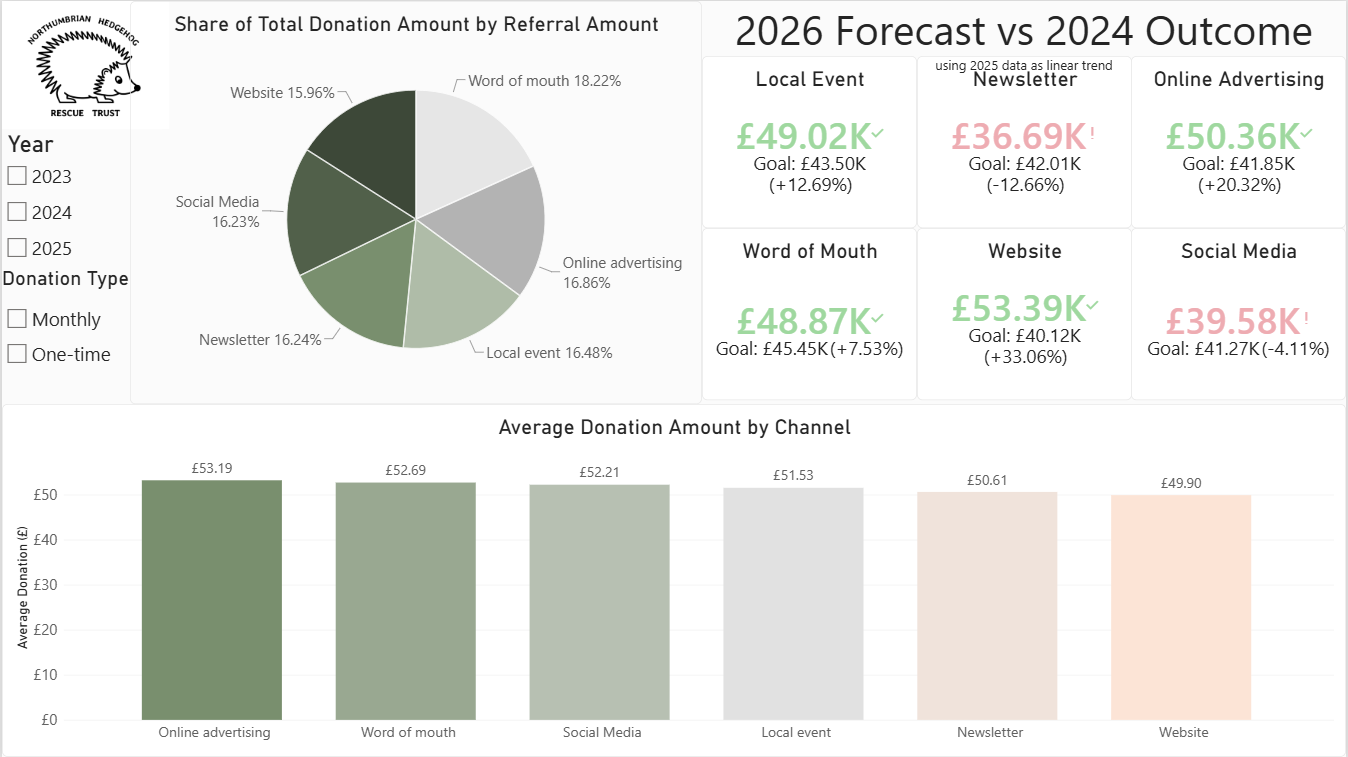

The page's visual inventory and layout, read from the dashboard file:
{"tool":"powerbi","page":{"name":"Referral Donation Analysis","canvas":[1920,1080],"ordinal":0},"visuals":[{"type":"image","box":[0,0,238.6,183.3],"z":0},{"type":"pieChart","title":"Share of Total Donation Amount by Referral Amount","fields":{"Category":["animal_charity_donation_records.referral_channel"],"Y":["Sum(animal_charity_donation_records.donation_amount)"]},"box":[182.9,0,816.9,575.6],"z":1000},{"type":"slicer","fields":{"Values":["animal_charity_donation_records.donation_date.Variation.Date Hierarchy.Year"]},"box":[0,183.8,182.4,194],"z":2000},{"type":"slicer","title":"Donation Type","fields":{"Values":["animal_charity_donation_records.donation_type"]},"box":[0,377.9,182,194],"z":3000},{"type":"clusteredColumnChart","title":"Average Donation Amount by Channel","fields":{"Category":["animal_charity_donation_records.referral_channel"],"Y":["animal_charity_donation_records.Avg Donation"]},"box":[0,575.7,1920,504.3],"z":4000},{"type":"kpi","title":"Word of Mouth","fields":{"Goal":["animal_charity_donation_records.2024_Total"],"Indicator":["animal_charity_donation_records.2026 Forecast"],"TrendLine":["animal_charity_donation_records.referral_channel"]},"box":[1000,324.3,307.1,245.7],"z":5000},{"type":"kpi","title":"Website","fields":{"Goal":["animal_charity_donation_records.2024_Total"],"Indicator":["animal_charity_donation_records.2026 Forecast"],"TrendLine":["animal_charity_donation_records.referral_channel"]},"box":[1307.1,324.3,307.1,245.7],"z":6000},{"type":"kpi","title":"Social Media","fields":{"Goal":["animal_charity_donation_records.2024_Total"],"Indicator":["animal_charity_donation_records.2026 Forecast"],"TrendLine":["animal_charity_donation_records.referral_channel"]},"box":[1612.9,324.3,307.1,245.7],"z":7000},{"type":"kpi","title":"Newsletter","fields":{"Goal":["animal_charity_donation_records.2024_Total"],"Indicator":["animal_charity_donation_records.2026 Forecast"],"TrendLine":["animal_charity_donation_records.referral_channel"]},"box":[1307.1,78.6,307.1,245.7],"z":8000},{"type":"kpi","title":"Online Advertising","fields":{"Goal":["animal_charity_donation_records.2024_Total"],"Indicator":["animal_charity_donation_records.2026 Forecast"],"TrendLine":["animal_charity_donation_records.referral_channel"]},"box":[1612.9,78.6,307.1,245.7],"z":9000},{"type":"textbox","box":[1010,0,900,115.7],"z":10000},{"type":"kpi","title":"Local Event","fields":{"Goal":["animal_charity_donation_records.2024_Total"],"Indicator":["animal_charity_donation_records.2026 Forecast"],"TrendLine":["animal_charity_donation_records.donation_date.Variation.Date Hierarchy.Year"]},"box":[1000,78.6,307.1,245.7],"z":11000}]}

Visuals, with their boxes in screenshot pixels (x1, y1, x2, y2), scaled from the page's 1920x1080 canvas onto the 1348x757 screenshot:
image: <bbox>0, 0, 168, 128</bbox>
"Share of Total Donation Amount by Referral Amount" pieChart: <bbox>128, 0, 702, 403</bbox>
slicer - animal_charity_donation_records.donation_date.Variation.Date Hierarchy.Year: <bbox>0, 129, 128, 265</bbox>
"Donation Type" slicer: <bbox>0, 265, 128, 401</bbox>
"Average Donation Amount by Channel" clusteredColumnChart: <bbox>0, 404, 1347, 756</bbox>
"Word of Mouth" kpi: <bbox>702, 227, 918, 400</bbox>
"Website" kpi: <bbox>918, 227, 1133, 400</bbox>
"Social Media" kpi: <bbox>1132, 227, 1347, 400</bbox>
"Newsletter" kpi: <bbox>918, 55, 1133, 227</bbox>
"Online Advertising" kpi: <bbox>1132, 55, 1347, 227</bbox>
textbox: <bbox>709, 0, 1341, 81</bbox>
"Local Event" kpi: <bbox>702, 55, 918, 227</bbox>
